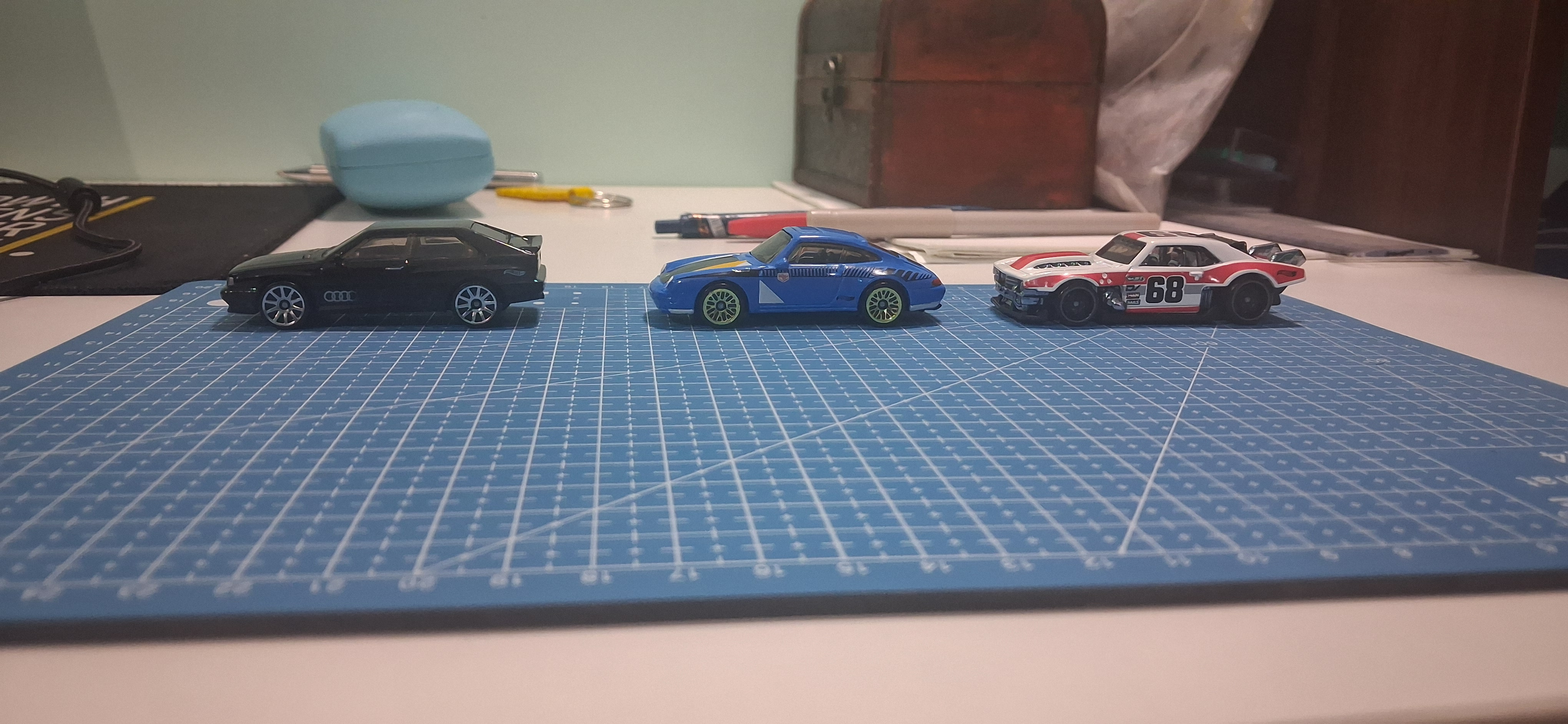Audi_Quattro: (167, 204, 573, 349)
Camaro: (986, 224, 1326, 352)
Porsche_Carrera: (611, 219, 961, 352)
